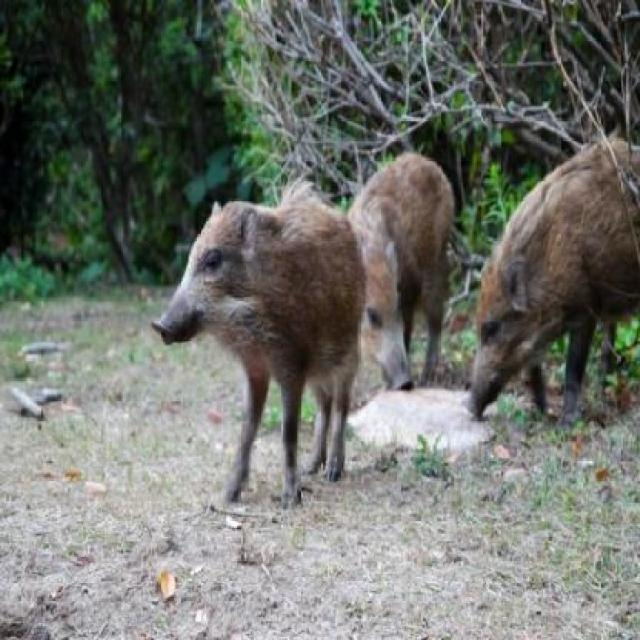wildboar: (145, 173, 372, 522), (458, 126, 640, 422), (252, 170, 416, 492), (318, 142, 464, 398)
